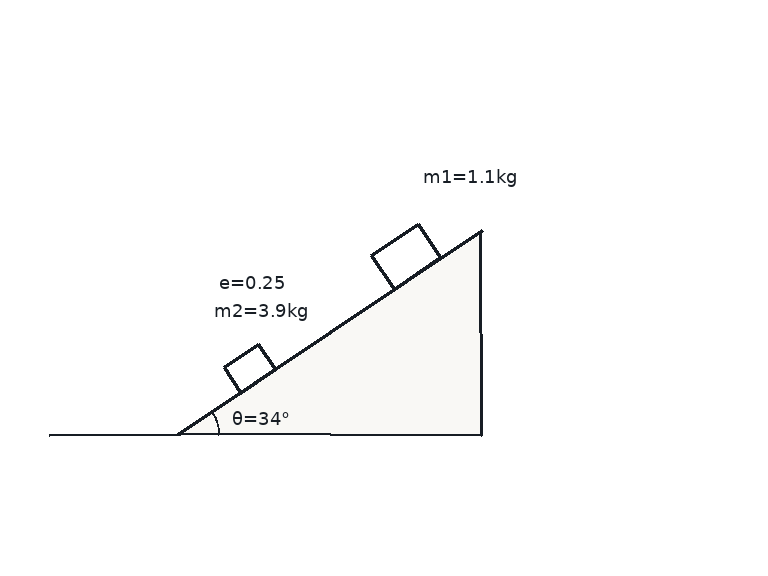block: (369, 222, 442, 291), (221, 342, 277, 395)
ramp: (177, 228, 483, 436)
